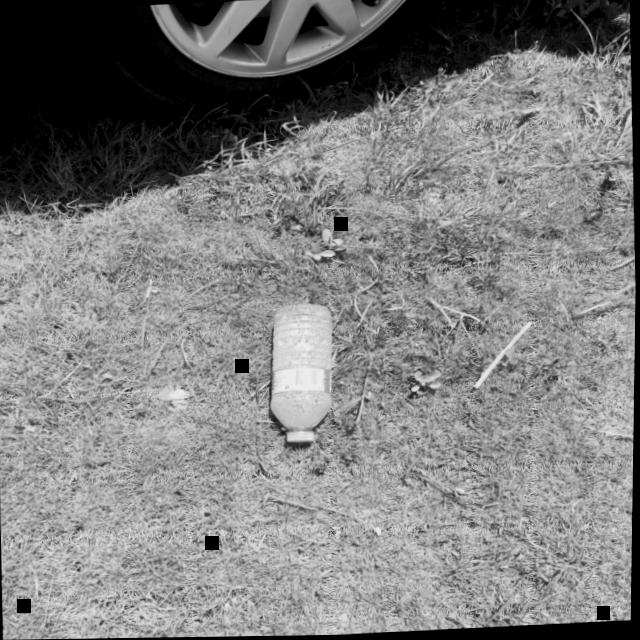Cigarette: (520, 108, 535, 114)
Clear plastic bottle: (270, 303, 332, 442)
Plastic bottle cap: (287, 433, 314, 442)
Plastic straw: (474, 321, 533, 389)
